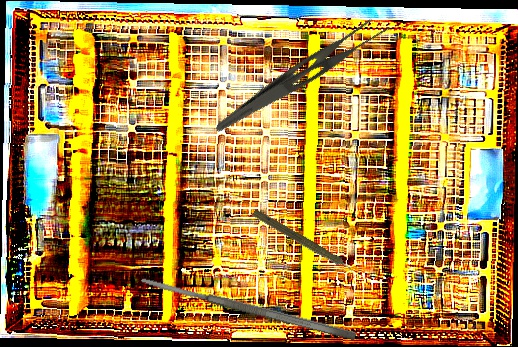Dressing Forceps: (213, 5, 393, 151)
Handpiece: (249, 207, 361, 280)
Spatula Surgical: (140, 273, 357, 343)
